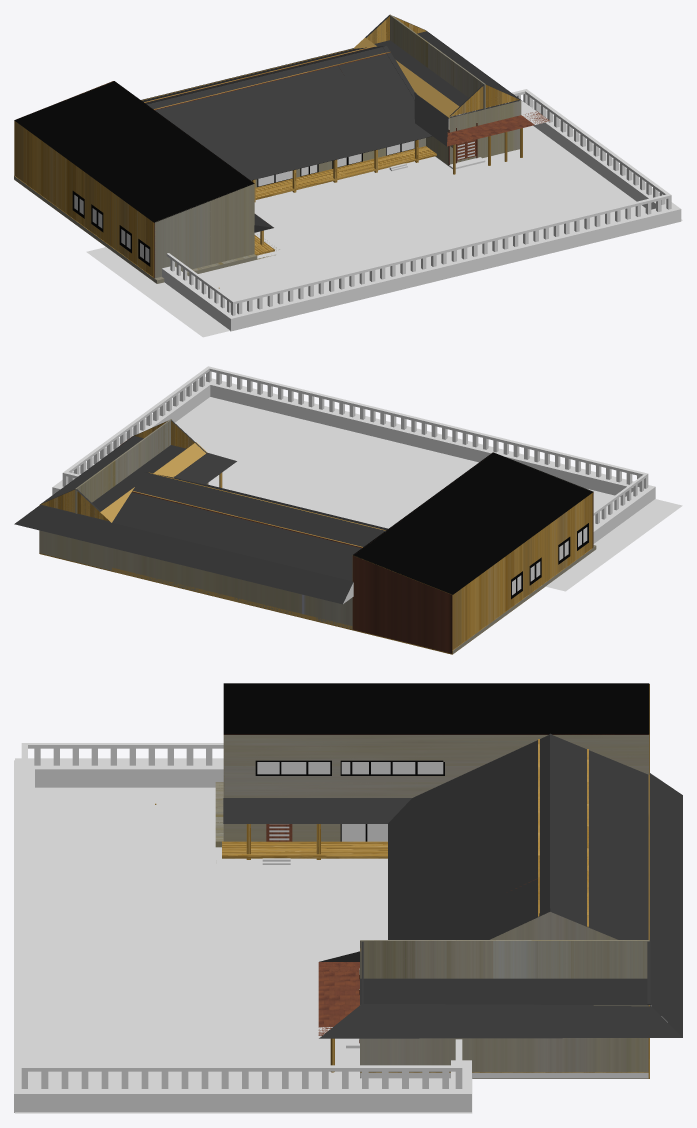
File: Kindergarten.fbx
The picture shows the model from 3 angles, top to bottom: view 1: azimuth 30°, elevation 25°; view 2: azimuth 150°, elevation 25°; view 3: azimuth 270°, elevation 25°; orthographic projection. The views are drawn at different scales.
Parts seen in each view (by area): view 1: 平面, 平面.007, 立方体.020, 立方体.028, 立方体.026, 立方体.015, 立方体, 立方体.014, 平面.002, 立方体.011, 立方体.001, 平面.001 (+4 smaller); view 2: 平面, 立方体.020, 立方体.002, 立方体.001, 平面.010, 立方体.026, 立方体.028, 立方体.015, 立方体, 平面.002, 立方体.027, 平面.003 (+2 smaller); view 3: 平面, 立方体.020, 平面.007, 立方体.001, 立方体.028, 平面.002, 平面.009, 立方体.026, 立方体.004, 立方体, 平面.010, 立方体.027 (+4 smaller).
Part boxes in pixels (x1,y1,x2,y2): 平面: (86, 46, 682, 337); 平面.007: (147, 45, 432, 180); 立方体.020: (14, 81, 254, 253); 立方体.028: (224, 100, 681, 331); 立方体.026: (166, 89, 671, 315); 立方体.015: (14, 121, 155, 277); 立方体: (354, 15, 521, 164); 立方体.014: (154, 184, 254, 278); 平面.002: (389, 14, 525, 182); 立方体.011: (255, 146, 436, 199); 立方体.001: (142, 46, 449, 165); 平面.001: (14, 175, 279, 283); 平面: (112, 397, 682, 629); 立方体.020: (352, 452, 593, 594); 立方体.002: (39, 505, 452, 654); 立方体.001: (112, 472, 385, 580); 平面.010: (14, 505, 353, 604); 立方体.026: (62, 366, 648, 523); 立方体.028: (52, 377, 655, 503); 立方体.015: (452, 492, 593, 654); 立方体: (39, 420, 207, 522); 平面.002: (75, 419, 233, 513); 立方体.027: (593, 487, 648, 543); 平面.003: (174, 453, 236, 484); 平面: (15, 739, 588, 1113); 立方体.020: (223, 683, 649, 841); 平面.007: (388, 734, 550, 939); 立方体.001: (359, 733, 648, 973); 立方体.028: (14, 760, 471, 1112); 平面.002: (299, 940, 649, 1078); 平面.009: (318, 1004, 682, 1038); 立方体.026: (21, 743, 462, 1088); 立方体.004: (360, 1005, 648, 1078); 立方体: (359, 940, 650, 1077); 平面.010: (649, 773, 682, 1037); 立方体.027: (28, 760, 223, 787).
Bounding box in the file's own units: 120073 × 18037 × 95516.
Materials: 40 (8 with a texture image).
